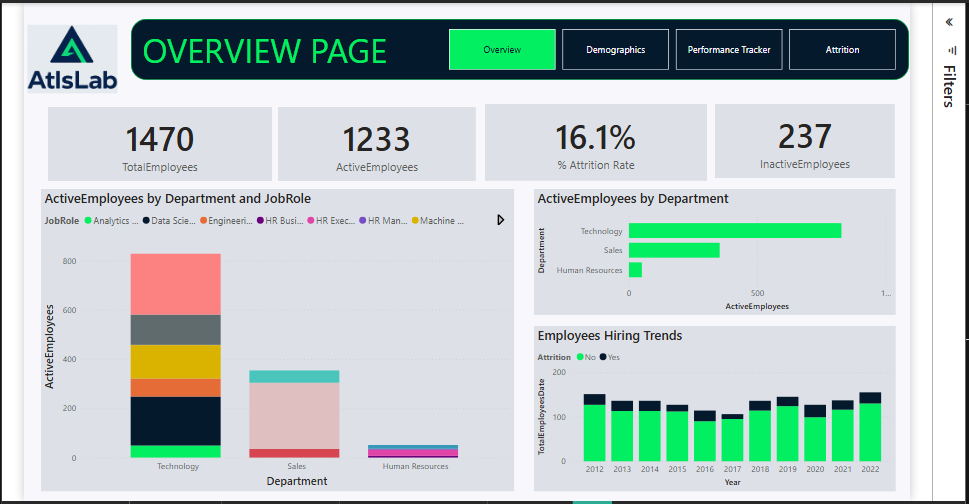

Layout of this report page (visuals, bound fields, positions):
{"tool":"powerbi","page":{"name":"Overview","canvas":[1280,720],"ordinal":0},"visuals":[{"type":"card","fields":{"Values":["_measures.TotalEmployees"]},"box":[34.7,150.4,323.9,107],"z":0},{"type":"card","fields":{"Values":["_measures.InactiveEmployees"]},"box":[999,146,260.2,107],"z":1000},{"type":"card","fields":{"Values":["_measures.% Attrition Rate"]},"box":[666.5,146,321,111.3],"z":2000},{"type":"card","fields":{"Values":["_measures.ActiveEmployees"]},"box":[367.2,150.4,286.3,107],"z":3000},{"type":"columnChart","title":"Employees Hiring Trends","fields":{"Category":["DimDate.Date.Variation.Date Hierarchy.Year"],"Y":["_measures.TotalEmployeesDate"],"Series":["Employee.Attrition"]},"box":[737.3,467,523.4,238.6],"z":4000},{"type":"clusteredBarChart","fields":{"Y":["_measures.ActiveEmployees"],"Category":["Employee.Department"]},"box":[737.3,268.9,523.4,182.2],"z":5000},{"type":"columnChart","fields":{"Category":["Employee.Department"],"Y":["_measures.ActiveEmployees"],"Series":["Employee.JobRole"]},"box":[24.6,268.9,683.9,436.6],"z":6000},{"type":"shape","box":[154.7,23.1,1124.8,88.2],"z":7000},{"type":"image","box":[0,11.6,140.2,138.8],"z":8000},{"type":"textbox","box":[166.3,30.4,388.9,76.6],"z":9000},{"type":"pageNavigator","box":[614.5,37.6,646.3,59.3],"z":10000}]}

Visuals, with their boxes on the page's 1280x720 design canvas (x1, y1, x2, y2). These are canvas units, not pixel positions in the 969x504 screenshot, which may show the page scaled, cropped or inside an application window:
card - _measures.TotalEmployees: x1=35 y1=150 x2=359 y2=257
card - _measures.InactiveEmployees: x1=999 y1=146 x2=1259 y2=253
card - _measures.% Attrition Rate: x1=666 y1=146 x2=988 y2=257
card - _measures.ActiveEmployees: x1=367 y1=150 x2=654 y2=257
"Employees Hiring Trends" columnChart: x1=737 y1=467 x2=1261 y2=706
clusteredBarChart - _measures.ActiveEmployees x Employee.Department: x1=737 y1=269 x2=1261 y2=451
columnChart - Employee.Department x _measures.ActiveEmployees: x1=25 y1=269 x2=708 y2=706
shape: x1=155 y1=23 x2=1280 y2=111
image: x1=0 y1=12 x2=140 y2=150
textbox: x1=166 y1=30 x2=555 y2=107
pageNavigator: x1=614 y1=38 x2=1261 y2=97
